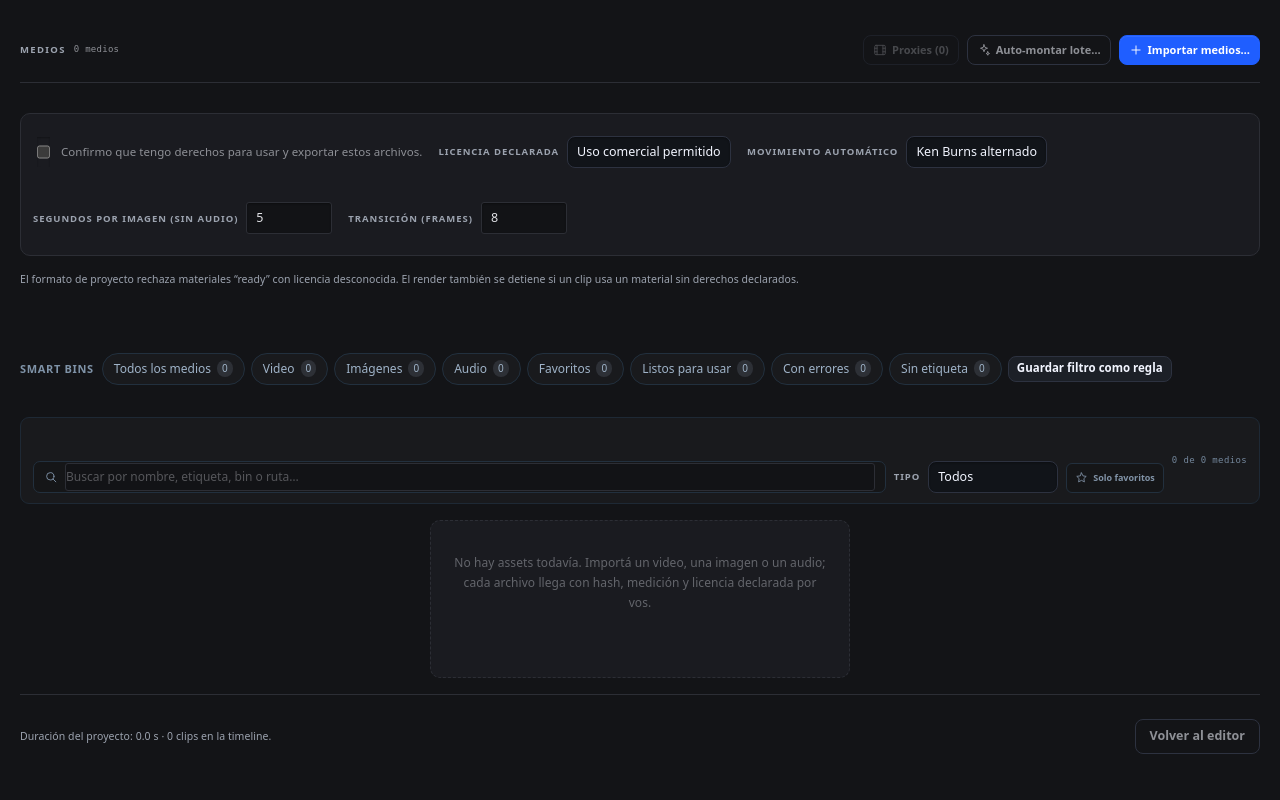
it: AssetsPanel · auto-montar lote › avisa cuando el lote no trae imágenes y no monta nada
Click the checkbox labelled "derechos" at (44, 152), box [37,137,50,167]
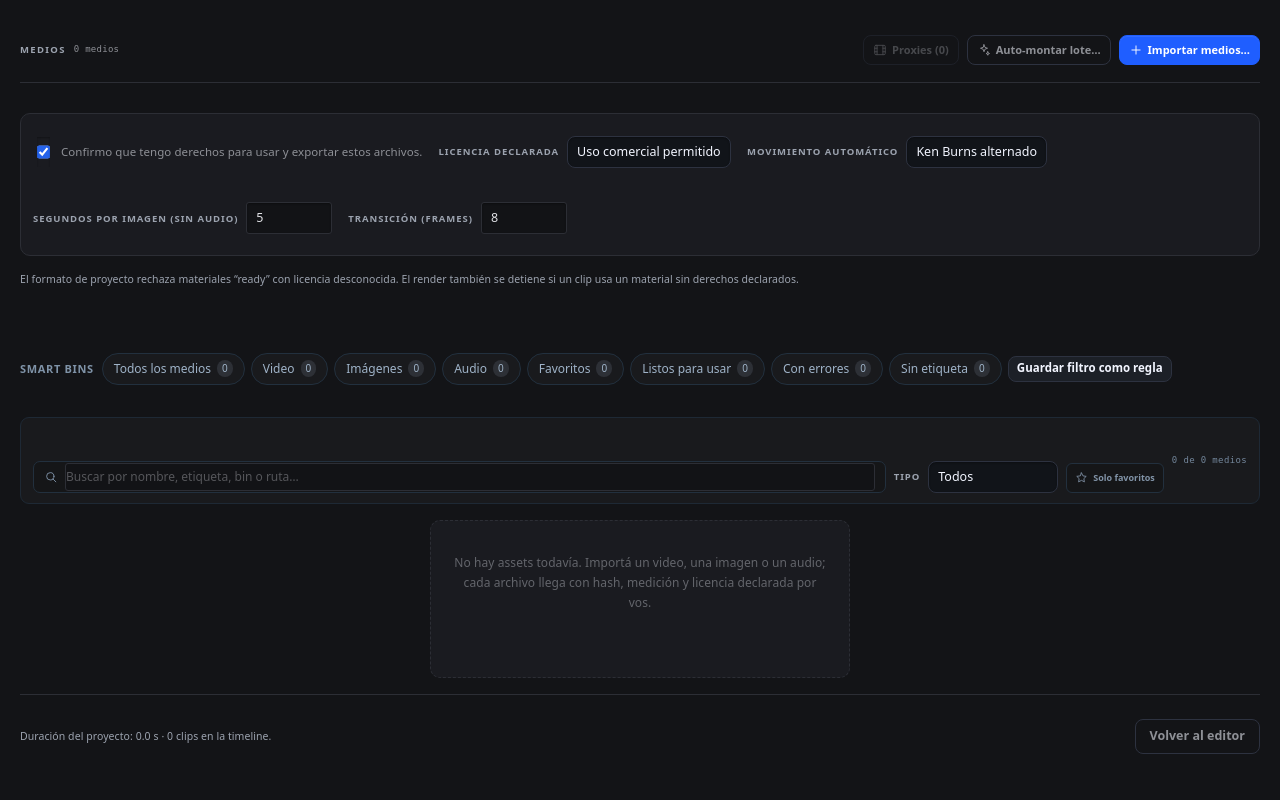
Click the button "Auto-montar lote…" at (1039, 50), box [967,35,1111,65]
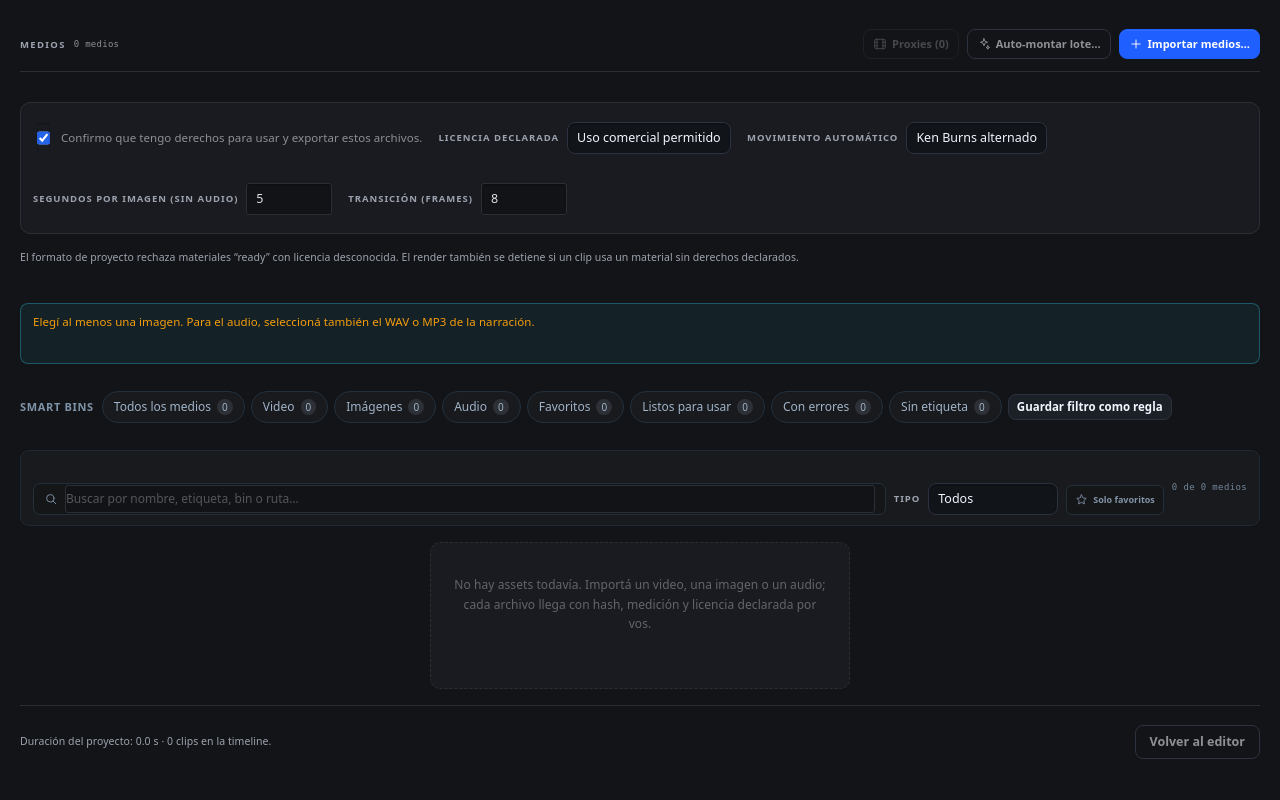
Now the text "Elegí al menos una imagen" is shown, box [33,314,535,329]
